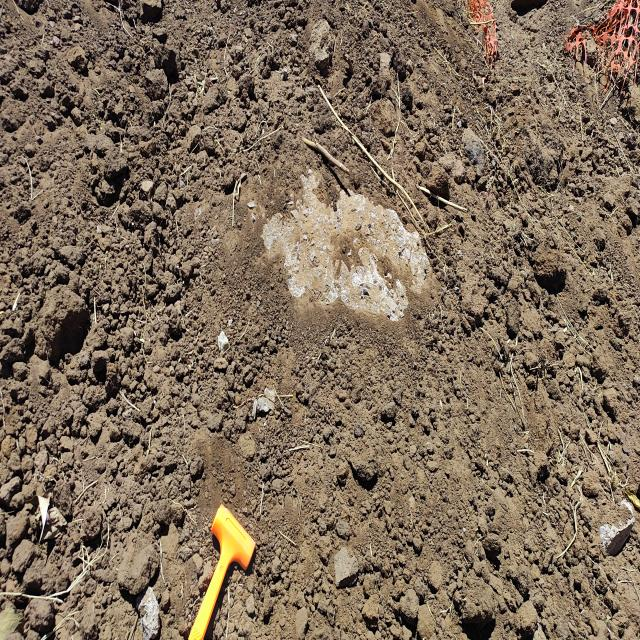Orange_hammer: (188, 502, 256, 638), (186, 508, 256, 639)
